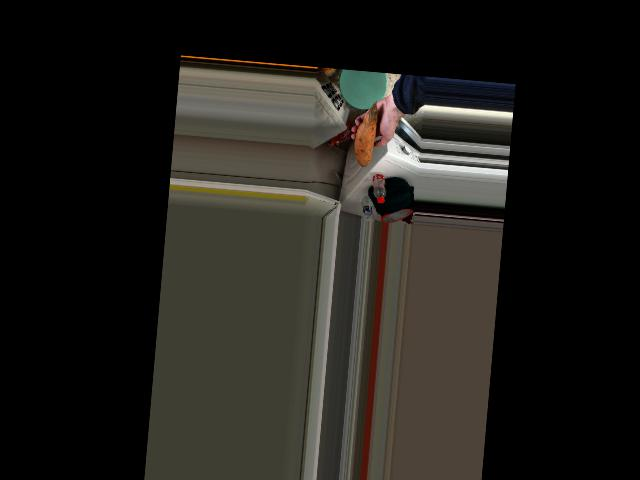sweet_potato: (352, 103, 378, 161)
